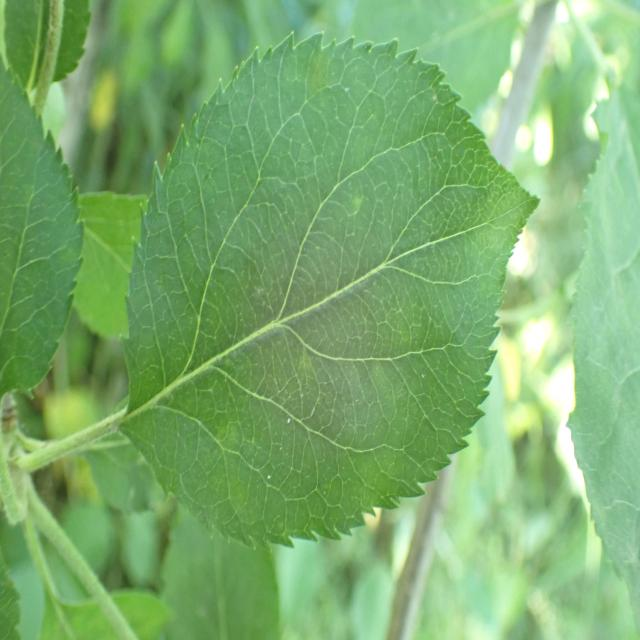scab: (185, 243, 455, 430)
